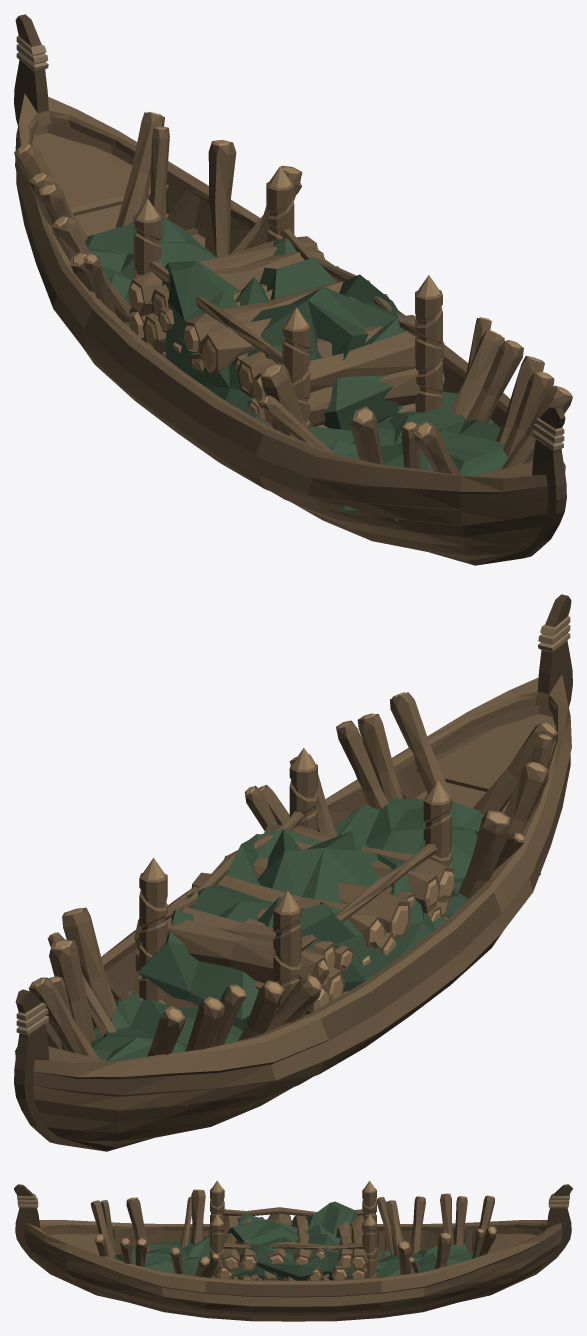
The model's file is Balsa.glb.
The picture shows the model from 3 angles, top to bottom: view 1: azimuth 30°, elevation 25°; view 2: azimuth 150°, elevation 25°; view 3: azimuth 270°, elevation 25°; orthographic projection. The views are drawn at different scales.
Parts seen in each view (by area): view 1: SM_Veh_FuneralBoat_01; view 2: SM_Veh_FuneralBoat_01; view 3: SM_Veh_FuneralBoat_01.
Part boxes in pixels (box(x1,y1,x2,y2)): SM_Veh_FuneralBoat_01: box(14, 14, 572, 565); SM_Veh_FuneralBoat_01: box(14, 594, 572, 1151); SM_Veh_FuneralBoat_01: box(14, 1180, 572, 1321).
Size of the model in its own units: 2.46 by 2.32 by 9.02.
1 material, 1 textured.
